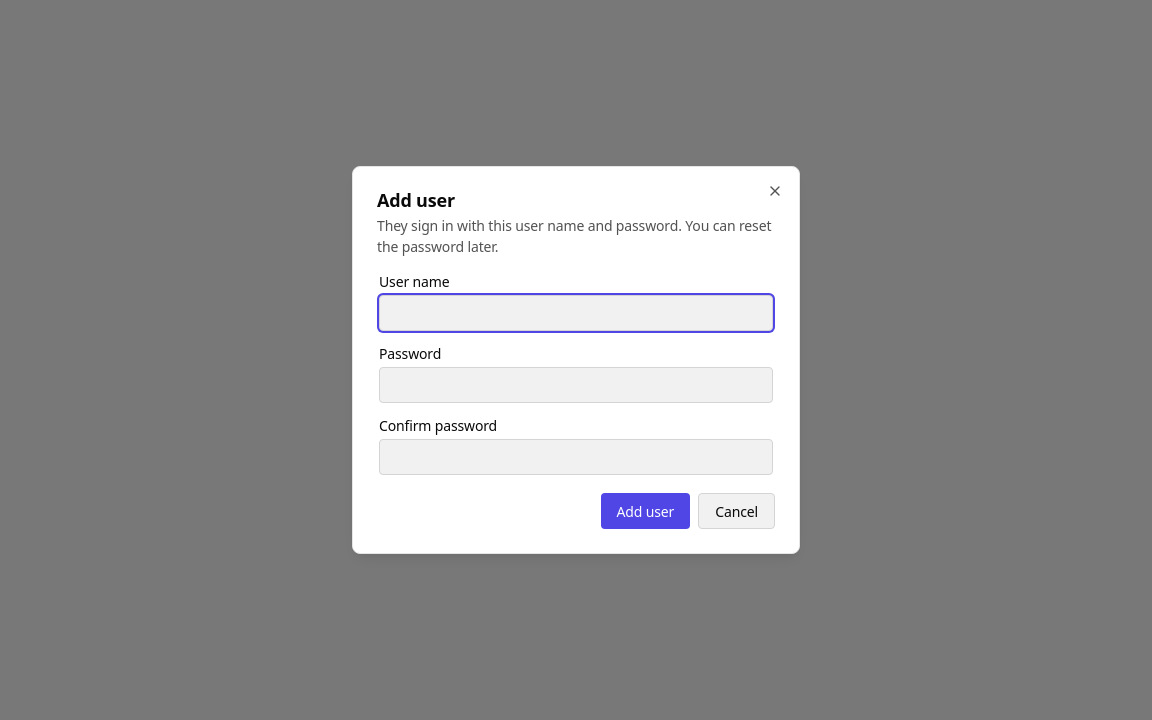
Test case: CreateUserDialog › refuses two different passwords under Confirm password, without asking the server
In the field labelled "User name": (576,313) [379,295,773,331], type " ivan "
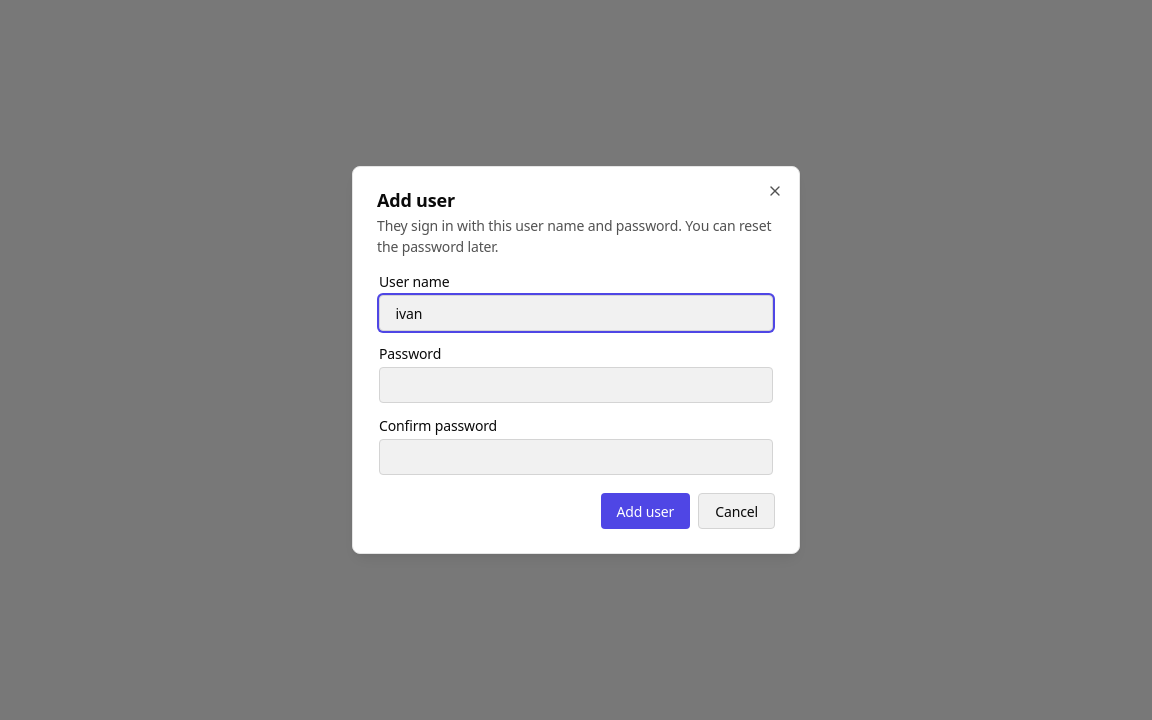
In the password field labelled "Password": (576,385) [379,367,773,403], type "correct horse battery"
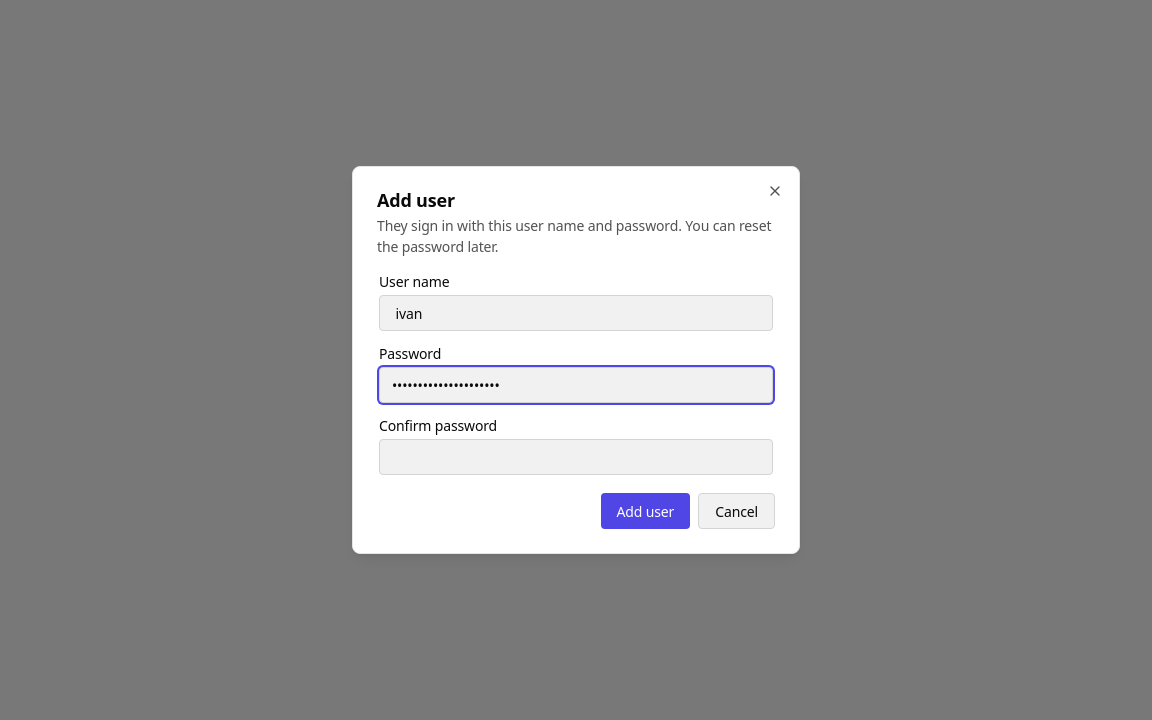
In the password field labelled "Confirm password": (576,457) [379,439,773,475], type "correct horse batery"
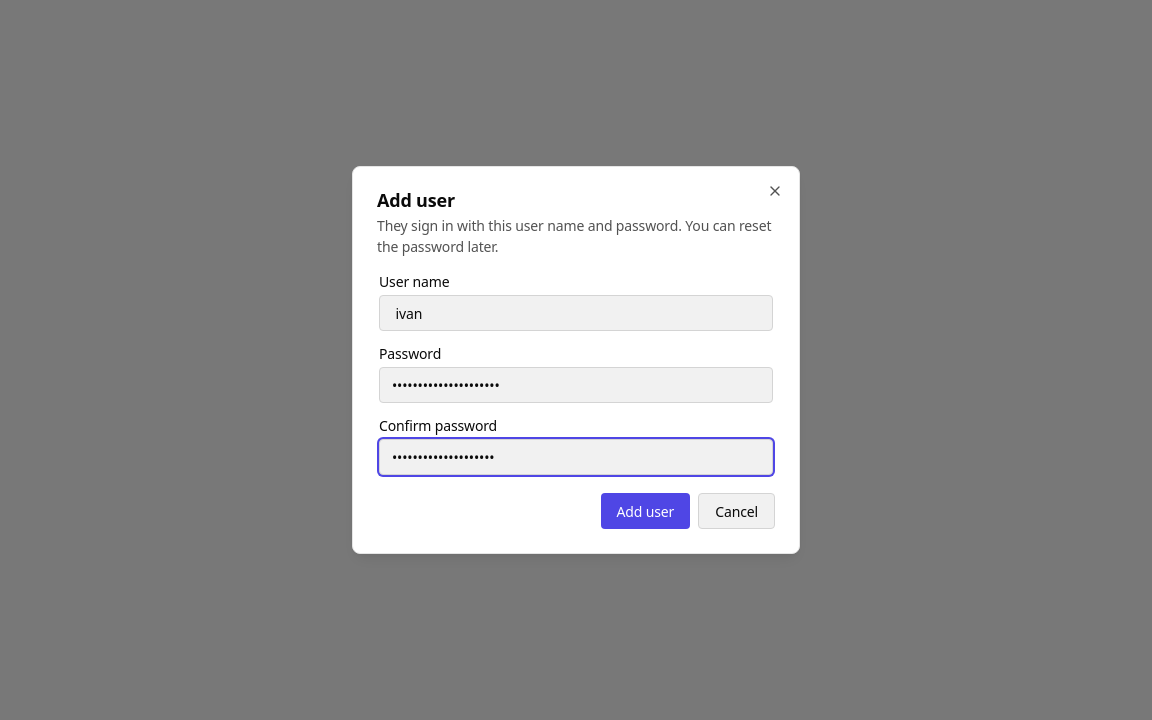
Click the button "Add user": (645,511) [601,493,690,529]
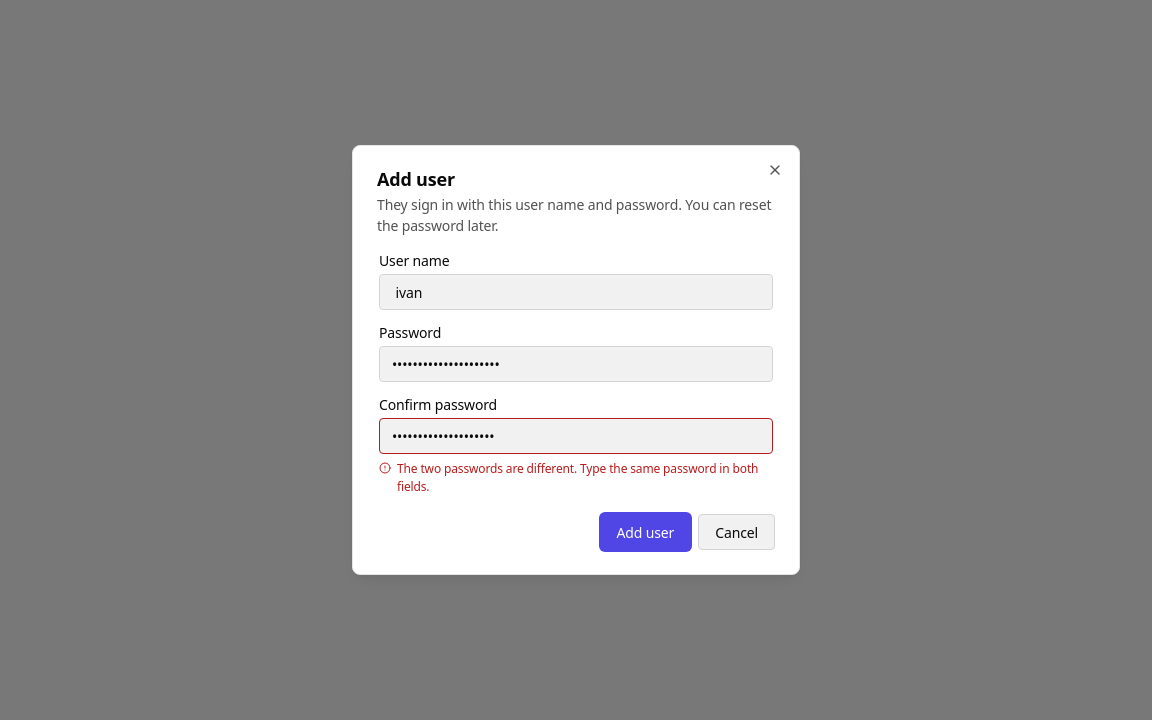
Expected: the number of messages is 1, [379,460,773,496]
